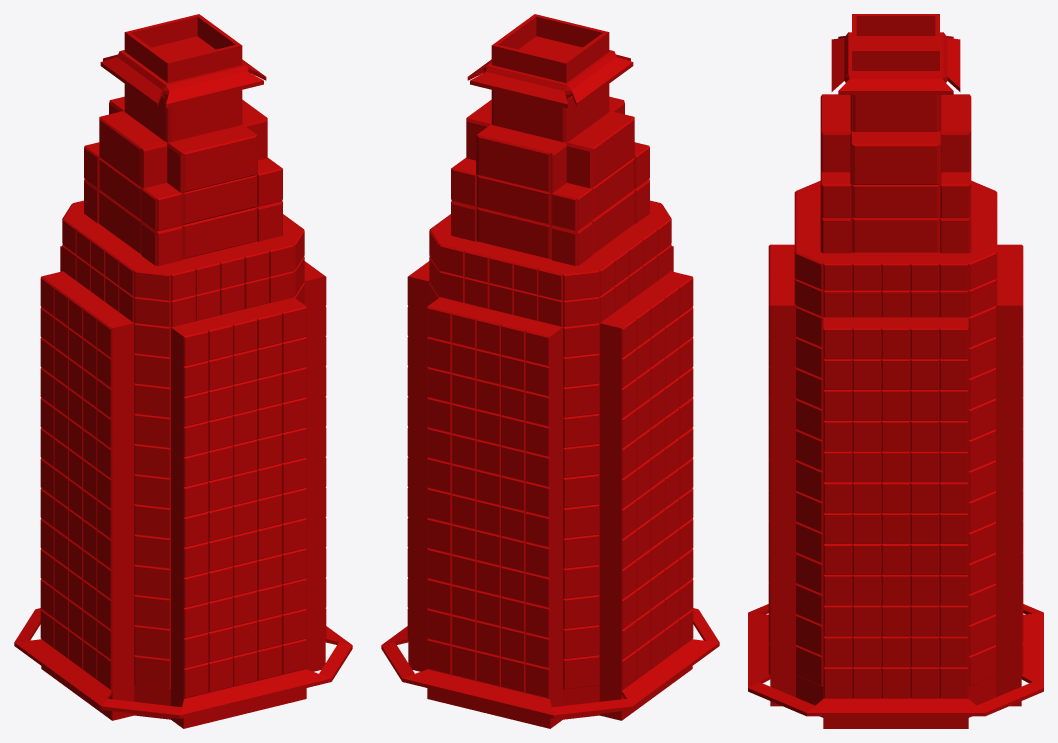
The picture shows the model from 3 angles, left to right: view 1: azimuth 30°, elevation 25°; view 2: azimuth 150°, elevation 25°; view 3: azimuth 270°, elevation 25°; orthographic projection. The views are drawn at different scales.
Parts seen in each view (by area): view 1: cube1_default.048; view 2: cube1_default.048; view 3: cube1_default.048.
Part boxes in pixels (x1=…): cube1_default.048: x1=14, y1=14, x2=352, y2=728; cube1_default.048: x1=381, y1=14, x2=719, y2=728; cube1_default.048: x1=748, y1=14, x2=1043, y2=728.
Size of the model in its own units: 33.49 by 80.37 by 33.49.
